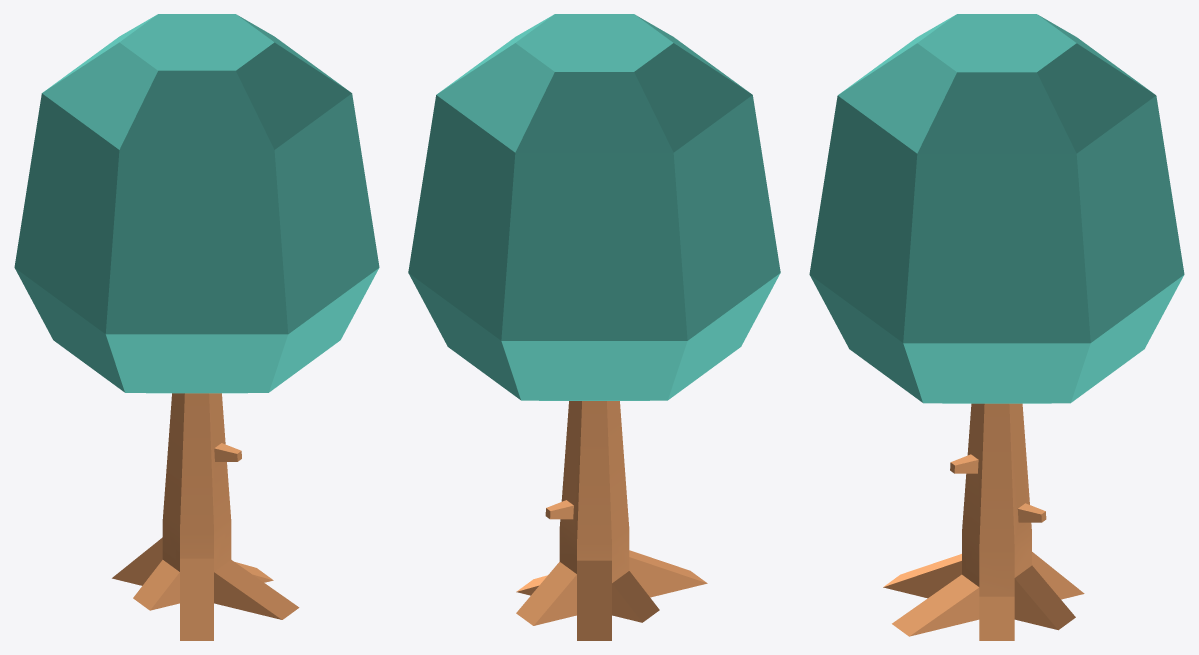
The model's file is tree_oak.obj.
3 renders of one model, left to right at view 1: azimuth 30°, elevation 25°; view 2: azimuth 150°, elevation 25°; view 3: azimuth 270°, elevation 25°, orthographic. The views are drawn at different scales.
Parts seen in each view (by area): view 1: tree_oak; view 2: tree_oak; view 3: tree_oak.
Boxes of the visible parts, x1=… form: tree_oak: x1=14, y1=14, x2=379, y2=640; tree_oak: x1=408, y1=14, x2=780, y2=640; tree_oak: x1=809, y1=14, x2=1184, y2=640.
Bounding box in the file's own units: 6.41 × 12.26 × 7.4.
